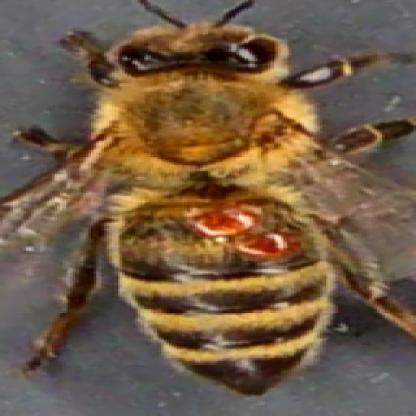bee: (85, 16, 348, 397)
vaoora: (242, 233, 294, 260), (193, 208, 244, 232)
